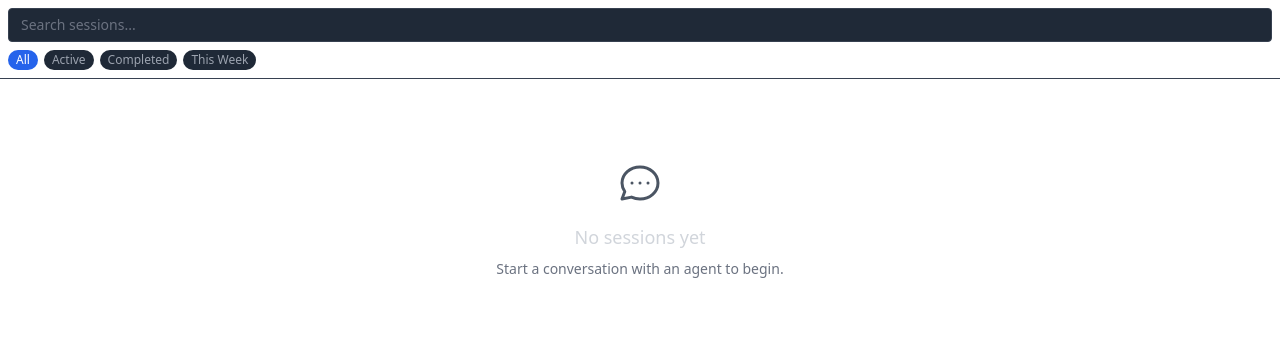
Test case: SessionList › empty state › shows search query in empty results message
The width and height of the screenshot is (1280, 363).
Type "foobar" into the field with placeholder "Search sessions..." at {"x": 640, "y": 25}, box [8,8,1272,42]
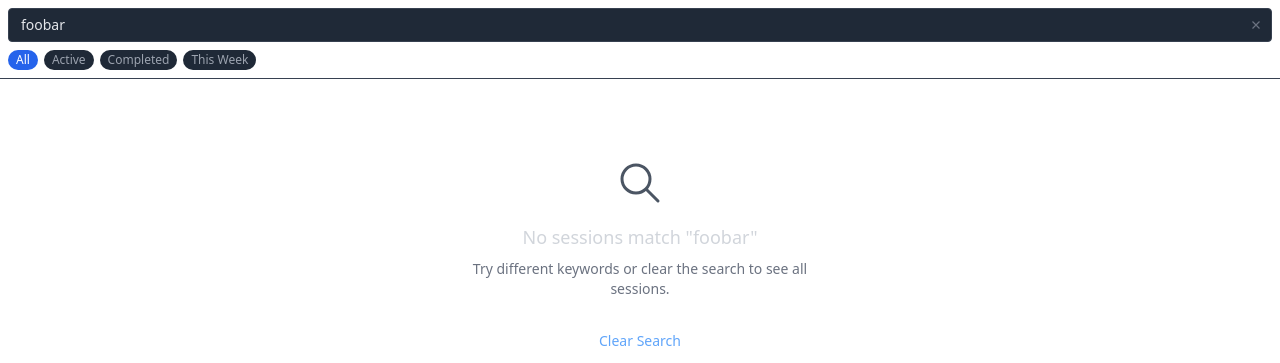
Expected: the heading "No sessions match \"foobar\"" is shown, [522,223,758,251]
